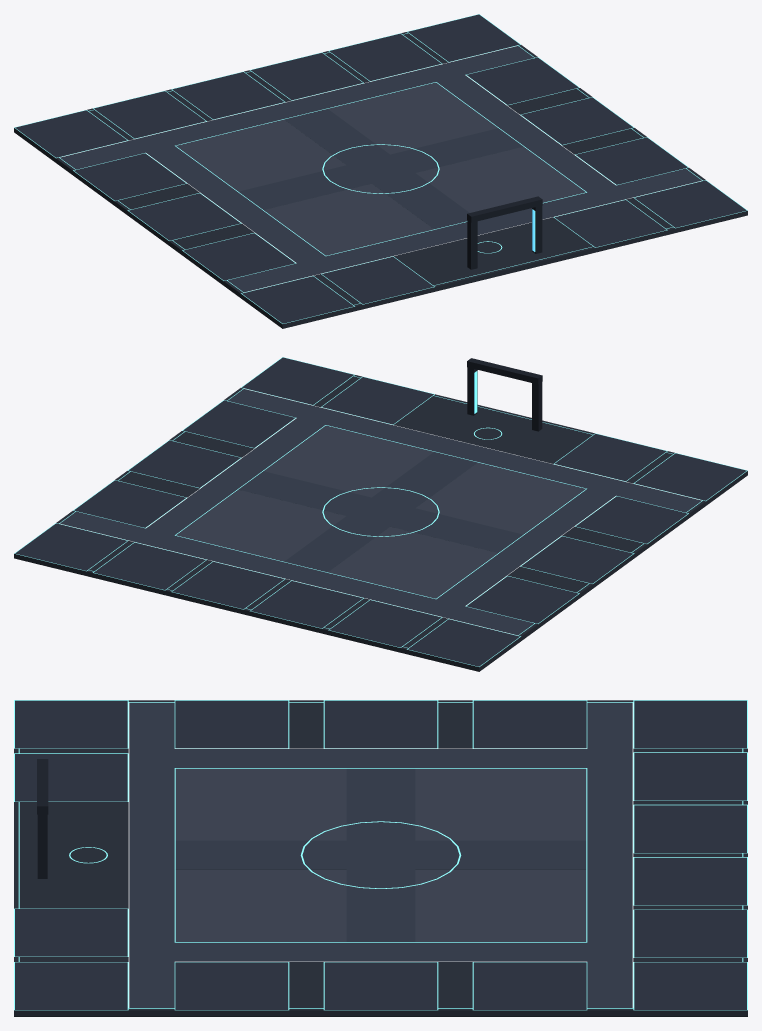
3 renders of one model, top to bottom at view 1: azimuth 30°, elevation 25°; view 2: azimuth 150°, elevation 25°; view 3: azimuth 270°, elevation 25°, orthographic. The views are drawn at different scales.
Parts seen in each view (by area): view 1: district_arcade.lod1; view 2: district_arcade.lod1; view 3: district_arcade.lod1.
Part boxes in pixels (x1,y1,x2,y2): district_arcade.lod1: (14, 14, 747, 328); district_arcade.lod1: (14, 357, 747, 671); district_arcade.lod1: (14, 700, 747, 1016).
Bounding box in the file's own units: 64 × 7.62 × 64.
